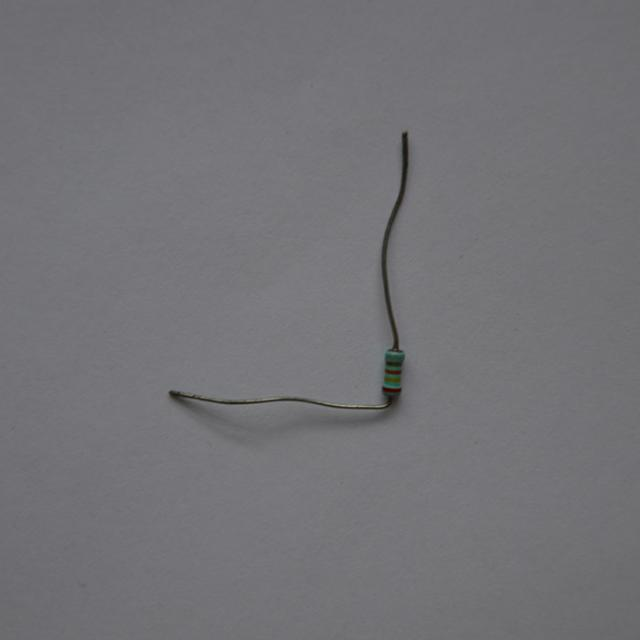gold: (386, 361, 403, 367)
orange: (387, 369, 401, 374)
red: (384, 387, 402, 392)
resistor: (377, 344, 410, 403)
yellow: (385, 378, 401, 384)
